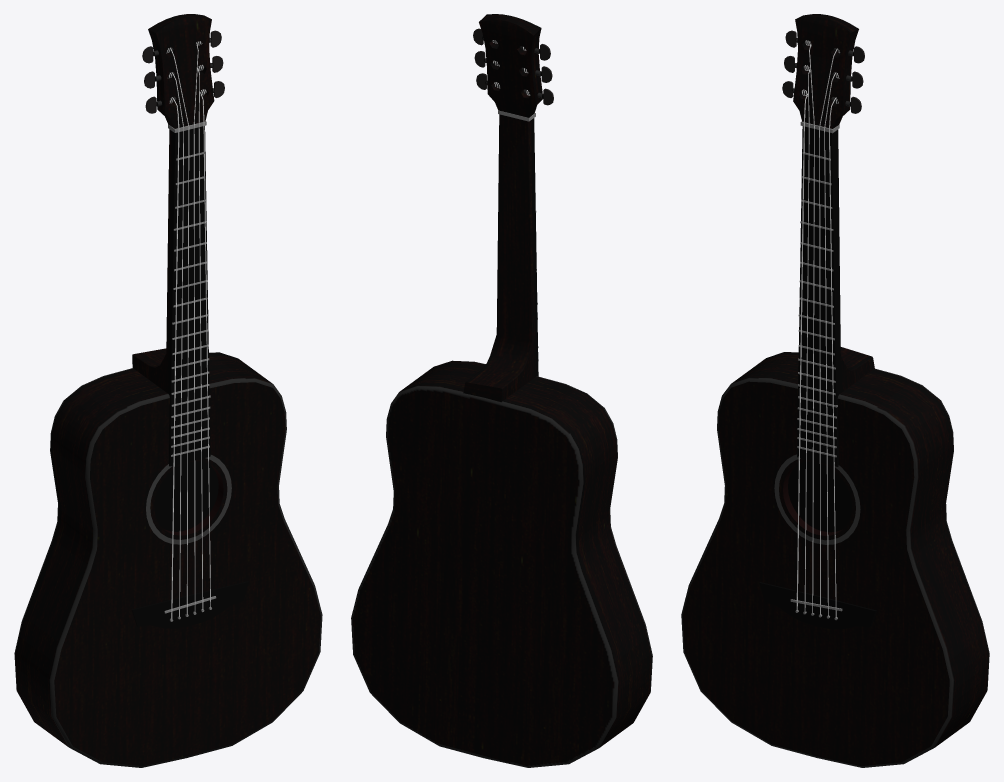
The model's file is Guitar_1_1k.fbx.
3 views of the same model, side by side, from view 1: azimuth 30°, elevation 25°; view 2: azimuth 150°, elevation 25°; view 3: azimuth 330°, elevation 25° (orthographic). The views are drawn at different scales.
Parts seen in each view (by area): view 1: Guitar_1_1k; view 2: Guitar_1_1k; view 3: Guitar_1_1k.
Part boxes in pixels (left/top/right/bottom): Guitar_1_1k: left=14, top=14, right=322, bottom=767; Guitar_1_1k: left=351, top=14, right=652, bottom=767; Guitar_1_1k: left=681, top=14, right=989, bottom=767.
Size of the model in its own units: 38.4 by 99.09 by 9.85.
1 material, 1 textured.
